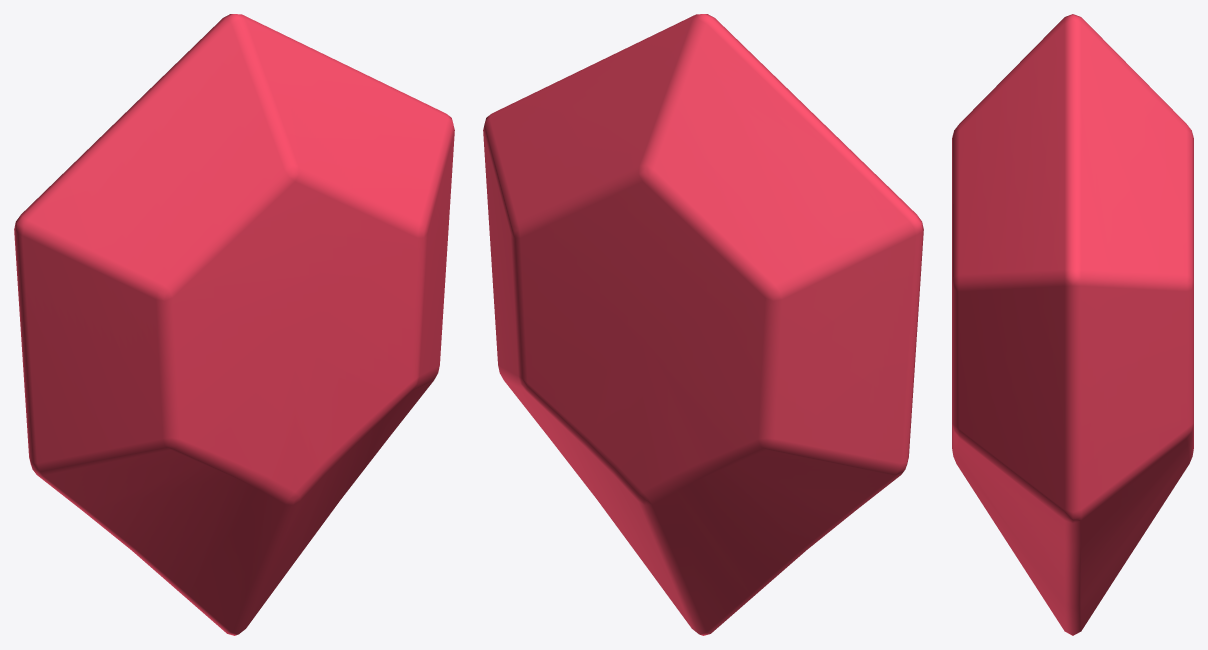
3 views of the same model, side by side, from view 1: azimuth 30°, elevation 25°; view 2: azimuth 150°, elevation 25°; view 3: azimuth 270°, elevation 25° (orthographic).
Visible parts, largest first — view 1: model_1.141; view 2: model_1.141; view 3: model_1.141.
Boxes of the visible parts, box(x1,y1,x2,y2) form: model_1.141: box(14, 14, 454, 635); model_1.141: box(483, 14, 923, 635); model_1.141: box(952, 14, 1193, 635).
Bounding box in the file's own units: 3.32 × 4.51 × 1.59.
